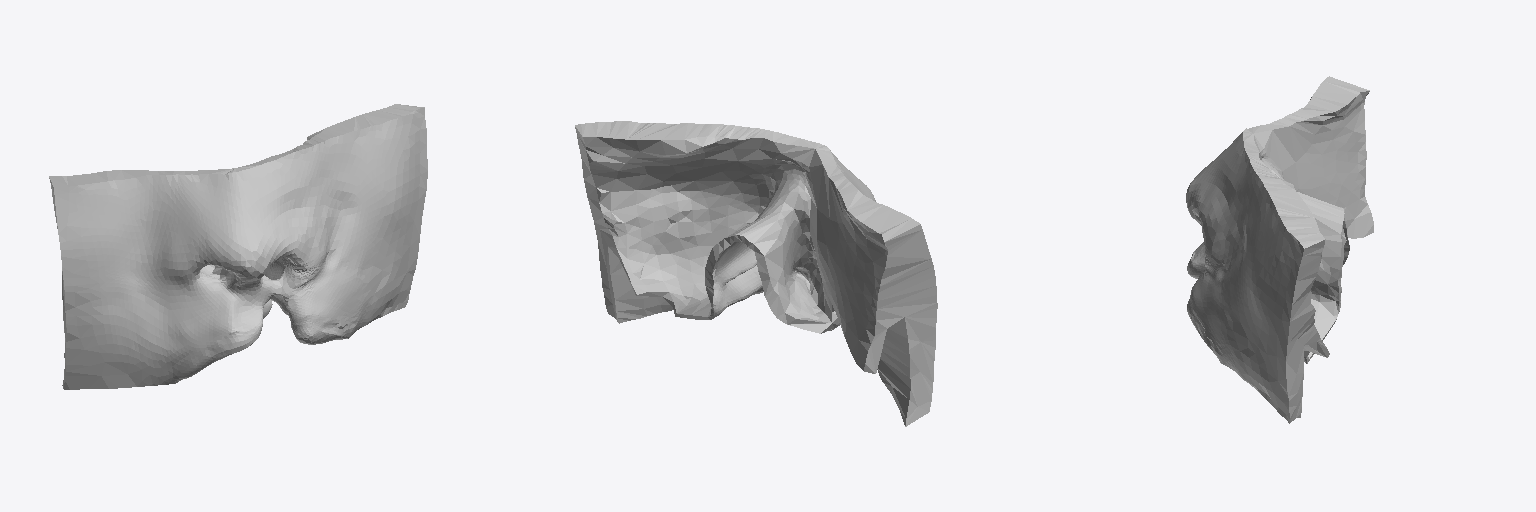
The model's file is unilatIncompleteCleft_2.obj.
3 views of the same model, side by side, from view 1: azimuth 30°, elevation 25°; view 2: azimuth 150°, elevation 25°; view 3: azimuth 270°, elevation 25° (orthographic).
Bounding box in the file's own units: 3.97 × 2.31 × 1.79.